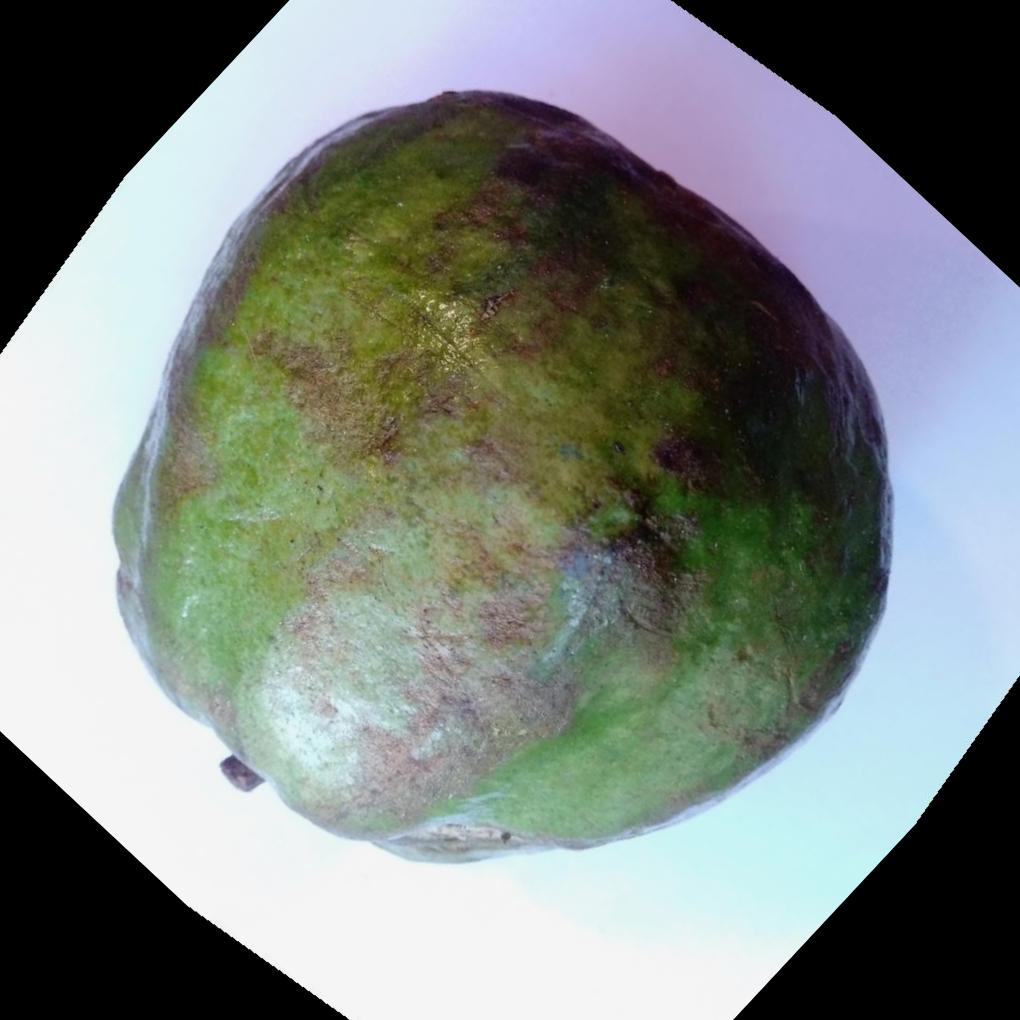FreshOrange: (108, 89, 892, 866)
